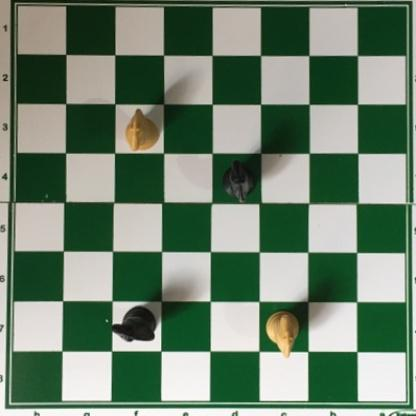black-knight: (112, 304, 157, 345), (219, 159, 258, 203)
white-knight: (265, 308, 302, 359), (123, 109, 161, 152)
